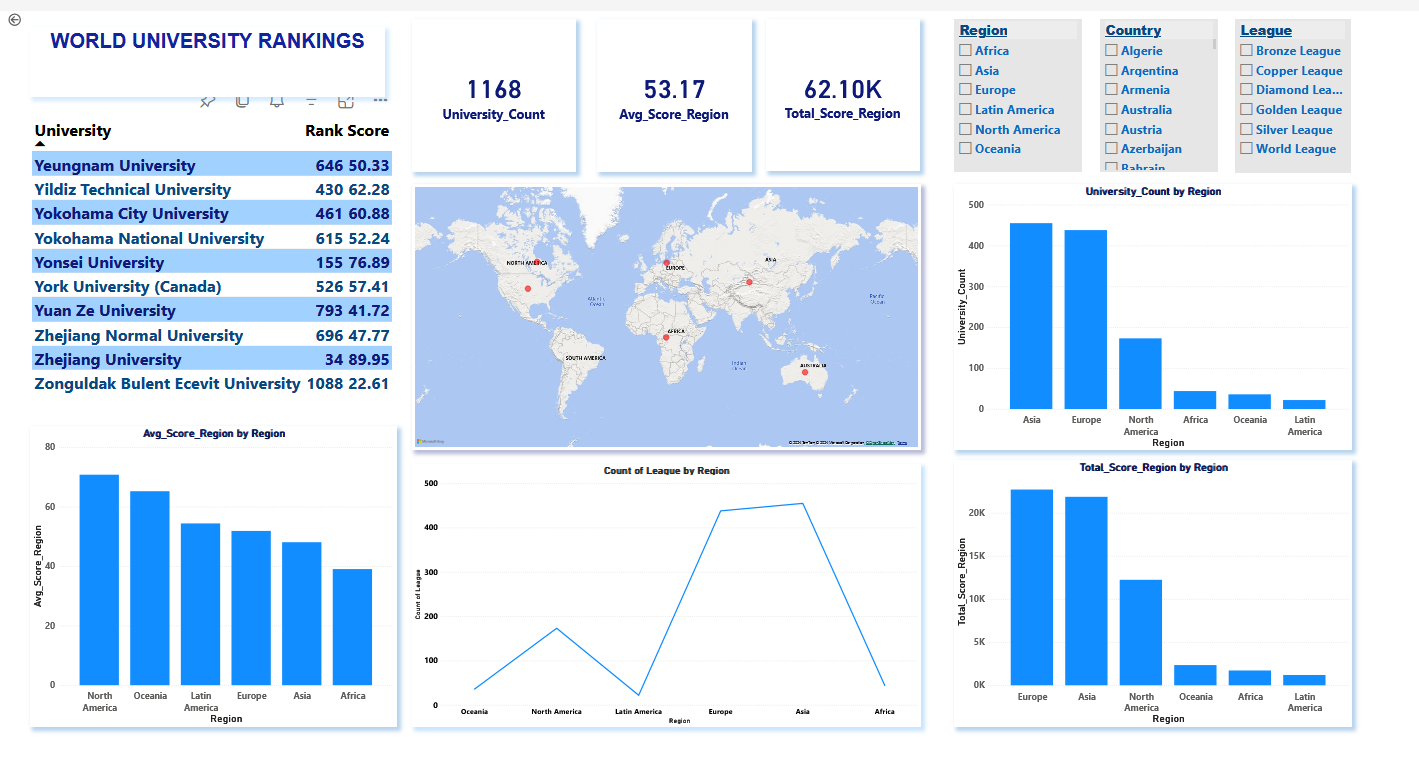

The dashboard page shown, as its layout file describes it:
{"tool":"powerbi","page":{"name":"WorldUniRankings ","canvas":[3300,1850],"ordinal":0},"visuals":[{"type":"card","fields":{"Values":["WorldUniRankings.Total_Score_Region"]},"box":[1819.4,19.4,369.4,363.9],"z":0},{"type":"card","fields":{"Values":["WorldUniRankings.Avg_Score_Region"]},"box":[1413.9,16.7,369.4,366.7],"z":1000},{"type":"card","fields":{"Values":["WorldUniRankings.University_Count"]},"box":[972.2,16.7,391.7,366.7],"z":2000},{"type":"map","fields":{"Category":["Region.Region","Region.Country","WorldUniRankings.University"]},"box":[972.2,413.9,1216.7,638.9],"z":3000},{"type":"actionButton","box":[0,0,100,40],"z":4000},{"type":"tableEx","fields":{"Values":["WorldUniRankings.University","WorldUniRankings.Rank","WorldUniRankings.Score"]},"box":[55.6,247.2,877.8,708.3],"z":5000},{"type":"slicer","fields":{"Values":["WorldUniRankings.Country"]},"box":[2616.7,19.4,283.3,366.7],"z":6000},{"type":"slicer","fields":{"Values":["Region.Region"]},"box":[2266.7,19.4,308.3,366.7],"z":7000},{"type":"slicer","fields":{"Values":["WorldUniRankings.League"]},"box":[2941.7,19.4,277.8,369.4],"z":8000},{"type":"clusteredColumnChart","fields":{"Category":["Region.Region"],"Y":["WorldUniRankings.University_Count"]},"box":[2266.7,413.9,952.8,638.9],"z":9000},{"type":"clusteredColumnChart","fields":{"Category":["Region.Region"],"Y":["WorldUniRankings.Total_Score_Region"]},"box":[2266.7,1075,952.8,638.9],"z":10000},{"type":"clusteredColumnChart","fields":{"Category":["Region.Region"],"Y":["WorldUniRankings.Avg_Score_Region"]},"box":[55.6,994.4,877.8,719.4],"z":11000},{"type":"lineChart","fields":{"Y":["CountNonNull(WorldUniRankings.League)"],"Category":["Region.Region"]},"box":[972.2,1083.3,1216.7,630.6],"z":12000},{"type":"textbox","box":[55.6,38.9,850,166.7],"z":13000}]}

Visuals, with their boxes on the page's 3300x1850 design canvas (x1, y1, x2, y2). These are canvas units, not pixel positions in the 1419x775 screenshot, which may show the page scaled, cropped or inside an application window:
card - WorldUniRankings.Total_Score_Region: region(1819, 19, 2189, 383)
card - WorldUniRankings.Avg_Score_Region: region(1414, 17, 1783, 383)
card - WorldUniRankings.University_Count: region(972, 17, 1364, 383)
map - Region.Region x Region.Country: region(972, 414, 2189, 1053)
actionButton: region(0, 0, 100, 40)
tableEx - WorldUniRankings.University x WorldUniRankings.Rank: region(56, 247, 933, 956)
slicer - WorldUniRankings.Country: region(2617, 19, 2900, 386)
slicer - Region.Region: region(2267, 19, 2575, 386)
slicer - WorldUniRankings.League: region(2942, 19, 3220, 389)
clusteredColumnChart - Region.Region x WorldUniRankings.University_Count: region(2267, 414, 3220, 1053)
clusteredColumnChart - Region.Region x WorldUniRankings.Total_Score_Region: region(2267, 1075, 3220, 1714)
clusteredColumnChart - Region.Region x WorldUniRankings.Avg_Score_Region: region(56, 994, 933, 1714)
lineChart - CountNonNull(WorldUniRankings.League) x Region.Region: region(972, 1083, 2189, 1714)
textbox: region(56, 39, 906, 206)
